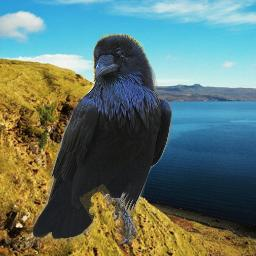Crow: (33, 33, 172, 245)
